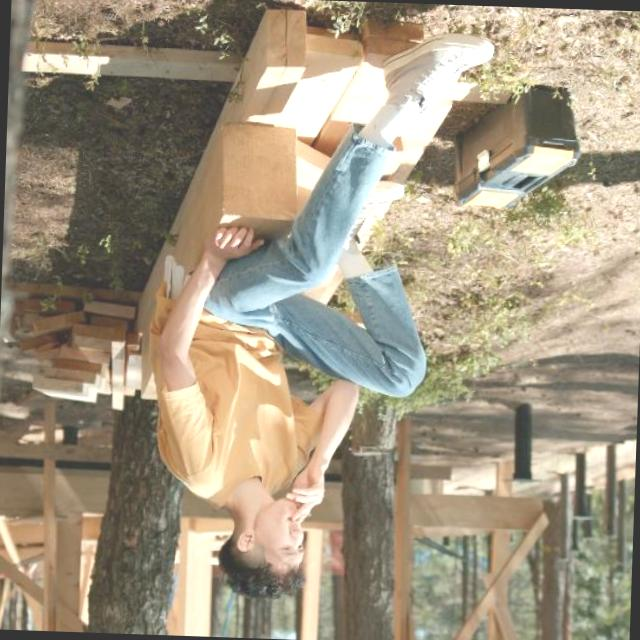smoke: (286, 497, 321, 528)
